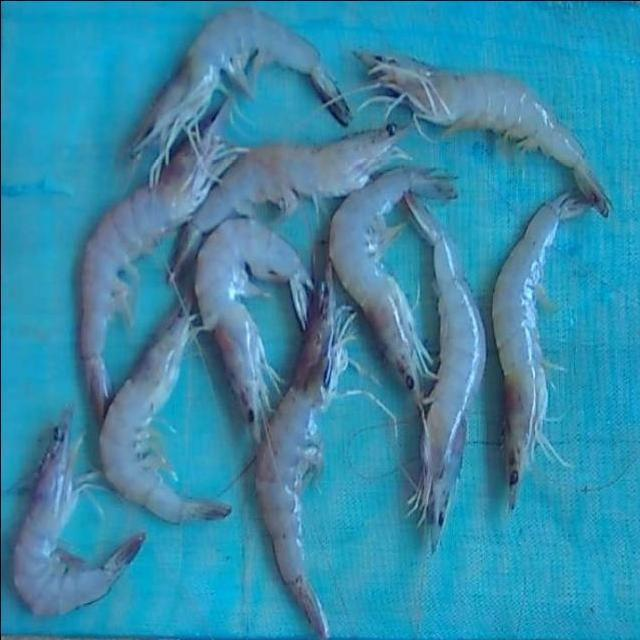shrimp: (78, 94, 229, 418), (357, 52, 611, 214), (162, 125, 406, 284), (128, 6, 348, 180), (255, 259, 350, 639), (398, 192, 486, 552), (329, 166, 455, 414), (493, 192, 591, 509), (99, 309, 230, 523), (12, 412, 144, 615), (194, 217, 311, 441)
